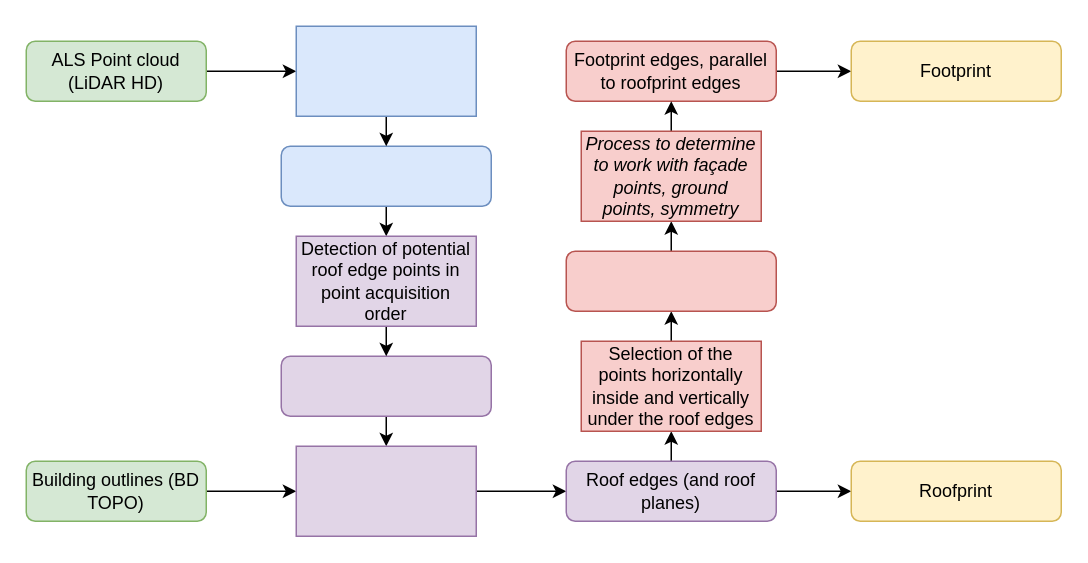
This 1088x563 diagram has some shape labels left out. Here are the shapes that lost their labels. From the top down, the centre of each, then its label:
At point 385,70: "Semantic segmentation (roof, façade, ground, vegetation, etc.)".
At point 385,175: "Classified point cloud".
At point 670,280: "Points for the footprint (hopefully mostly façade and ground points)".
At point 385,385: "Set of potential roof edge points".
At point 385,490: "Construction of the roof edges (potentially including roof planes)".
